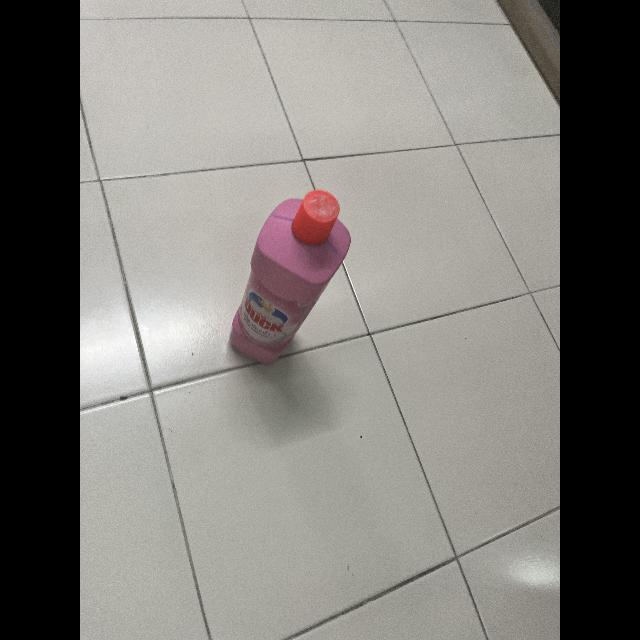chemical_plastic_bottle: (226, 183, 354, 367)
